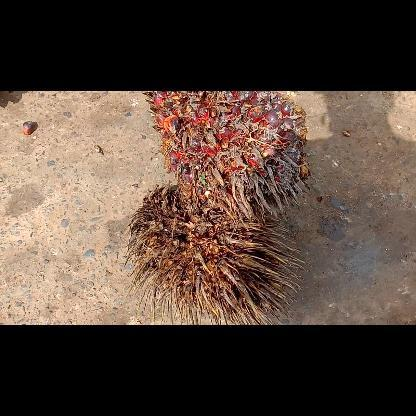Janjang kosong: (125, 184, 306, 324)
TBS masak: (142, 91, 310, 230)
